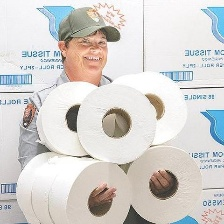tissue: (10, 146, 136, 224), (71, 78, 161, 168), (120, 140, 208, 224), (105, 67, 190, 149), (31, 76, 111, 160)
